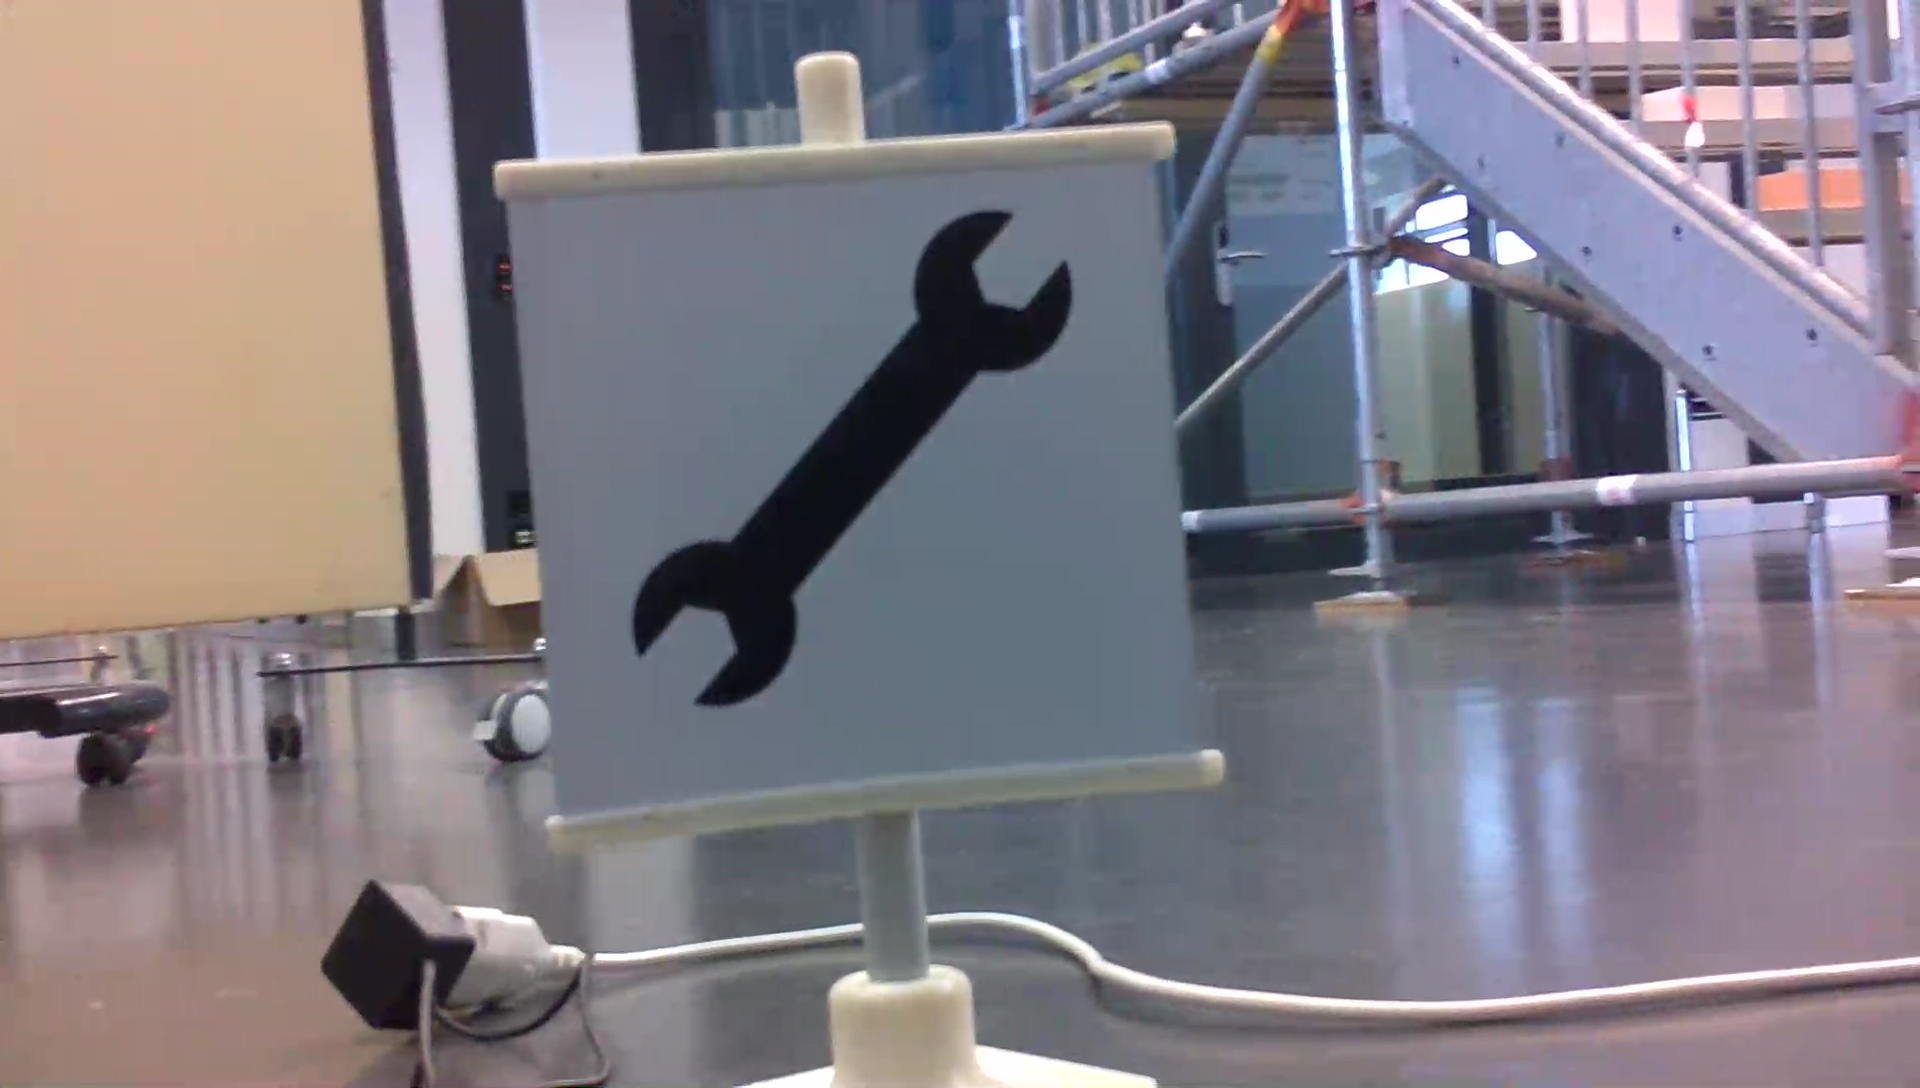wrench: (618, 198, 1087, 721)
